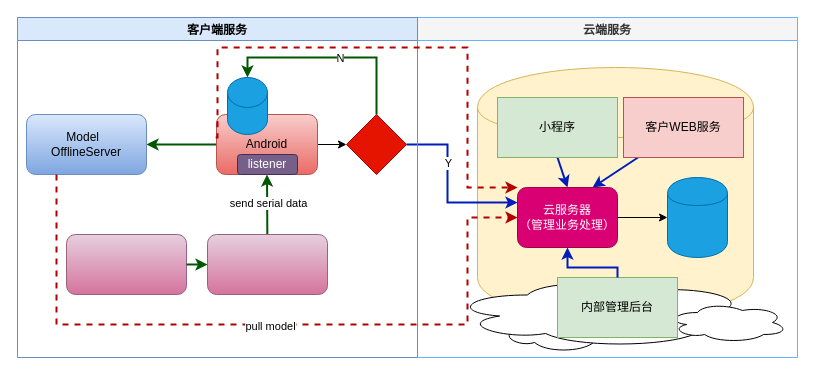
Image size: 815x375. Some labels were removed from this diagram. The centre of each missing label's shape, as x and y in pixels:
"ERP" belongs at (126,264).
"local storage" belongs at (247,105).
"客户数据" belongs at (697,217).
"是否 联网" belongs at (376,144).
